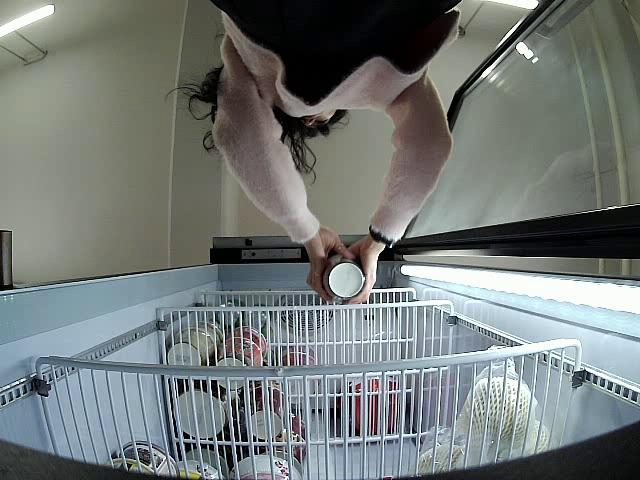00_hand: (307, 229, 355, 299), (345, 238, 378, 307)
08_buldak_S: (321, 251, 365, 299)
